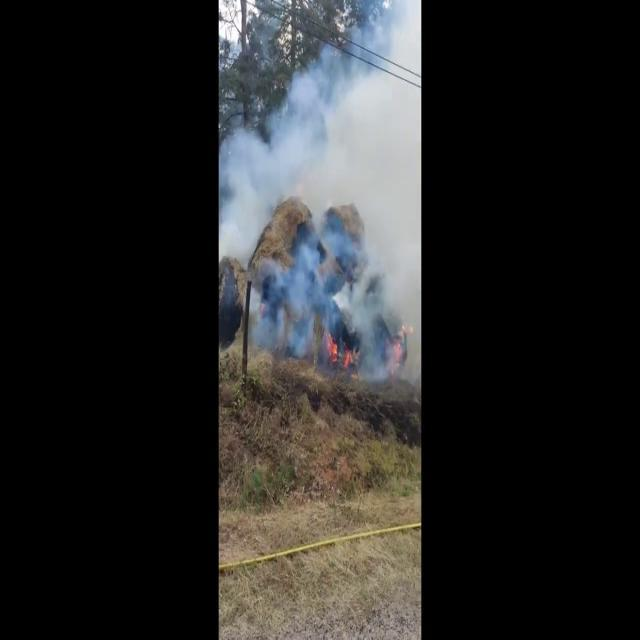Smoke: (219, 11, 421, 385)
